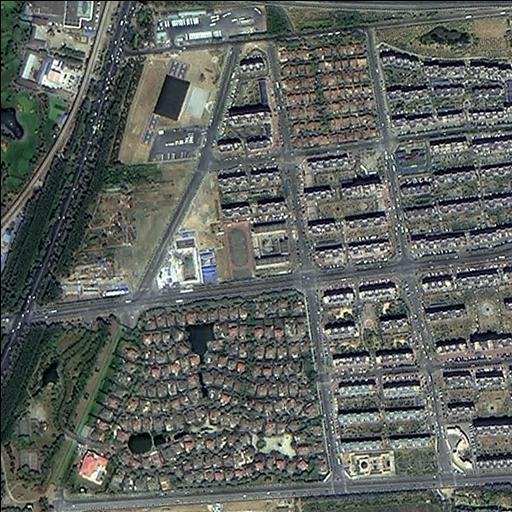school: (217, 218, 298, 285)
